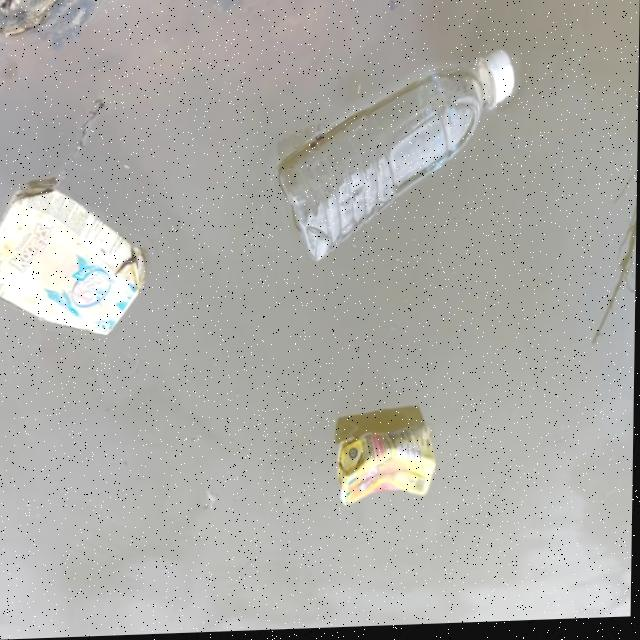paper: (0, 171, 158, 328), (313, 415, 448, 525)
waterbottle: (263, 45, 534, 265)
